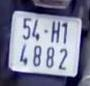1: (59, 19, 70, 47)
2: (58, 47, 69, 73)
4: (18, 43, 29, 67), (32, 17, 40, 43)
5: (21, 15, 32, 43)
8: (45, 44, 57, 70), (32, 44, 43, 68)
H: (49, 19, 61, 44)
